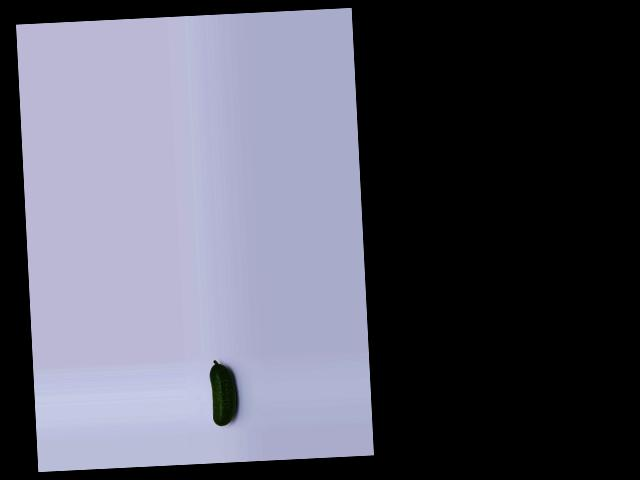cucumber: (209, 359, 238, 426)
